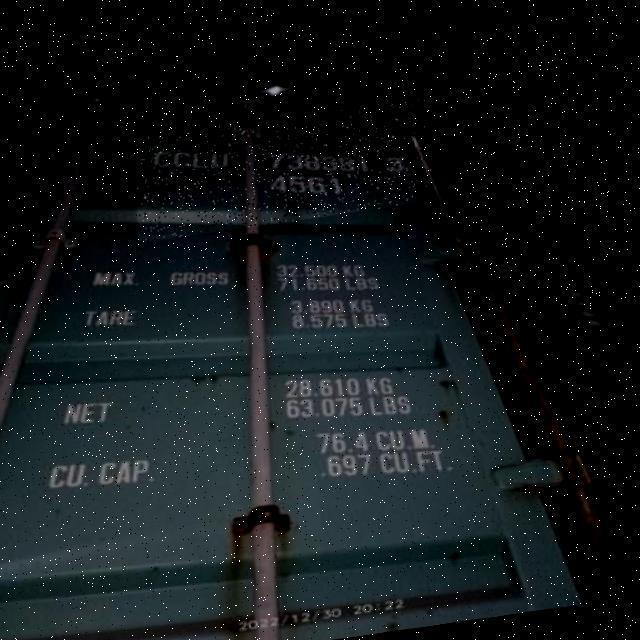container_number_h: (127, 92, 443, 246)
